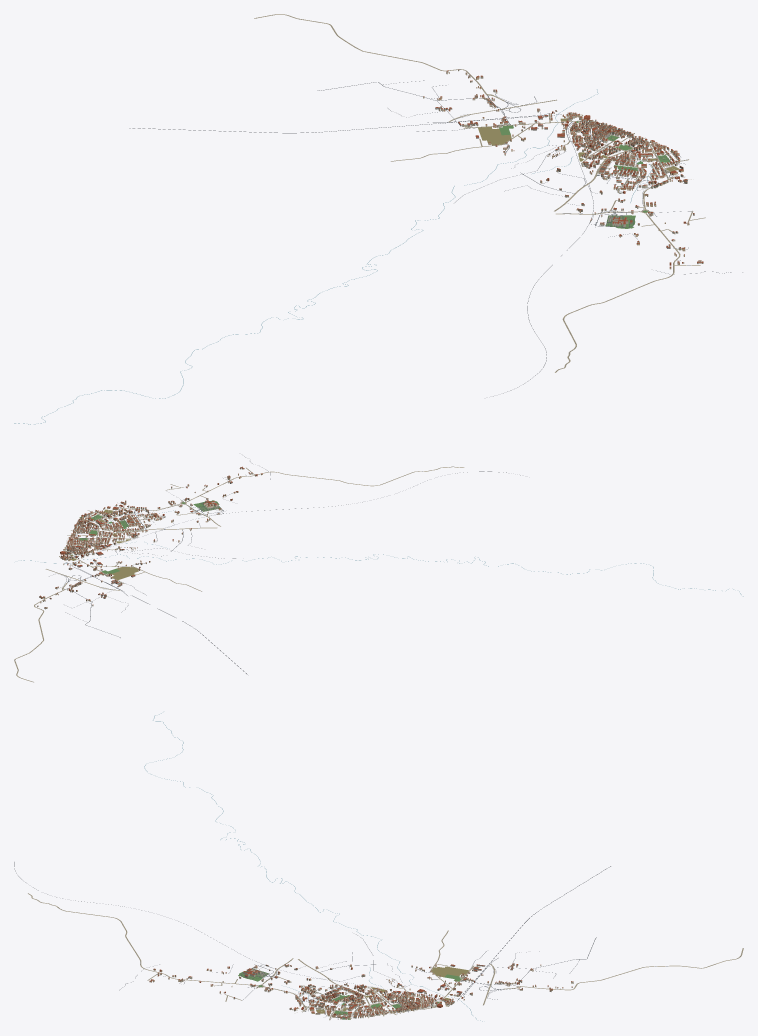
File: luce.glb
The picture shows the model from 3 angles, top to bottom: view 1: azimuth 30°, elevation 25°; view 2: azimuth 150°, elevation 25°; view 3: azimuth 270°, elevation 25°; orthographic projection. The views are drawn at different scales.
Visible parts, largest first — view 1: quartiere-luce; view 2: quartiere-luce; view 3: quartiere-luce.
Boxes of the visible parts, bbox=[...] form: quartiere-luce: bbox=[14, 14, 742, 424]; quartiere-luce: bbox=[14, 456, 743, 682]; quartiere-luce: bbox=[14, 713, 743, 1021].
Bounding box in the file's own units: 9131 × 32.06 × 9070.
